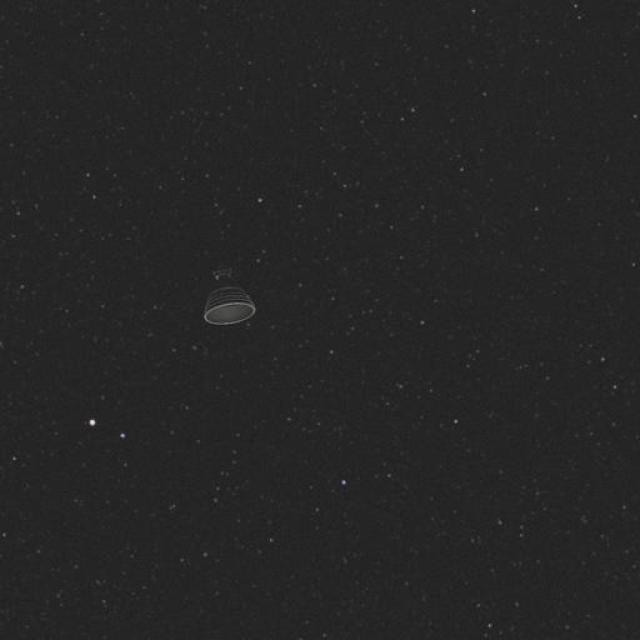debris: (190, 251, 274, 342)
